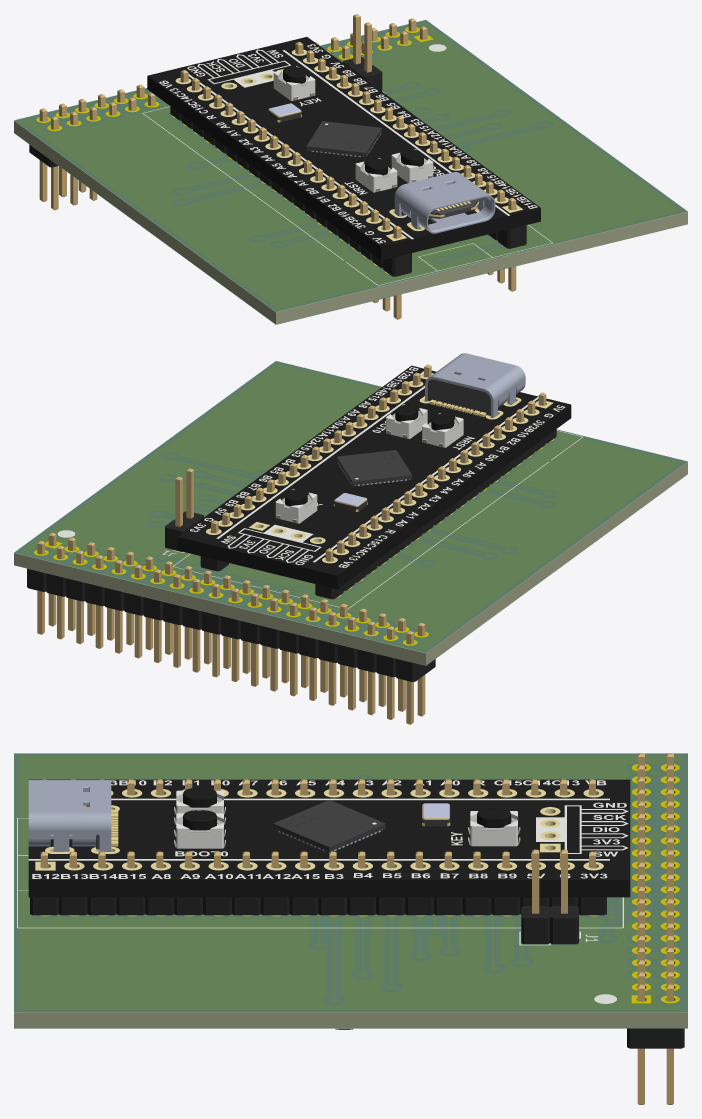
The model's file is BlackDev_G0Basic.glb.
The picture shows the model from 3 angles, top to bottom: view 1: azimuth 30°, elevation 25°; view 2: azimuth 150°, elevation 25°; view 3: azimuth 270°, elevation 25°; orthographic projection. The views are drawn at different scales.
Visible parts, largest first — view 1: =>[0:1:1:21], =>[0:1:1:18], =>0:1:1:11, =>[0:1:1:23], =>[0:1:1:13] (×2), USB Type C Port (SMD Type) v1:1, =>[0:1:1:17], STM32F411CEU6 v2:1, =>[0:1:1:3], PTS810 SJK 250 SMTR LFS--3DModel-STEP-1 v2:1, PTS810 SJK 250 SMTR LFS--3DModel-STEP-1 v2(Mirror):1, PTS810 SJK 250 SMTR LFS--3DModel-STEP-1 v2:2 (+3 smaller); view 2: =>[0:1:1:21], =>[0:1:1:18], =>0:1:1:11, =>[0:1:1:17], =>[0:1:1:23], =>[0:1:1:13] (×2), USB Type C Port (SMD Type) v1:1, STM32F411CEU6 v2:1, =>[0:1:1:3], PTS810 SJK 250 SMTR LFS--3DModel-STEP-1 v2:1, PTS810 SJK 250 SMTR LFS--3DModel-STEP-1 v2(Mirror):1, PTS810 SJK 250 SMTR LFS--3DModel-STEP-1 v2:2 (+2 smaller); view 3: =>[0:1:1:21], =>[0:1:1:18], =>0:1:1:11, =>[0:1:1:23], =>[0:1:1:13] (×2), =>[0:1:1:17], USB Type C Port (SMD Type) v1:1, STM32F411CEU6 v2:1, =>[0:1:1:3], PTS810 SJK 250 SMTR LFS--3DModel-STEP-1 v2:1, PTS810 SJK 250 SMTR LFS--3DModel-STEP-1 v2:2, =>[0:1:1:19] (+3 smaller).
Boxes of the visible parts, left/top/right/bottom form: =>[0:1:1:21]: left=14, top=20, right=687, bottom=311; =>[0:1:1:18]: left=21, top=23, right=680, bottom=308; =>0:1:1:11: left=147, top=37, right=540, bottom=260; =>[0:1:1:23]: left=14, top=21, right=687, bottom=324; =>[0:1:1:13] (×2): left=170, top=42, right=526, bottom=319; USB Type C Port (SMD Type) v1:1: left=394, top=172, right=495, bottom=233; =>[0:1:1:17]: left=29, top=18, right=427, bottom=210; STM32F411CEU6 v2:1: left=306, top=121, right=381, bottom=157; =>[0:1:1:3]: left=342, top=14, right=382, bottom=91; PTS810 SJK 250 SMTR LFS--3DModel-STEP-1 v2:1: left=273, top=66, right=315, bottom=100; PTS810 SJK 250 SMTR LFS--3DModel-STEP-1 v2(Mirror):1: left=355, top=158, right=397, bottom=192; PTS810 SJK 250 SMTR LFS--3DModel-STEP-1 v2:2: left=391, top=149, right=433, bottom=182; =>[0:1:1:21]: left=14, top=361, right=687, bottom=652; =>[0:1:1:18]: left=21, top=364, right=680, bottom=649; =>0:1:1:11: left=177, top=365, right=571, bottom=589; =>[0:1:1:17]: left=27, top=532, right=435, bottom=724; =>[0:1:1:23]: left=14, top=362, right=687, bottom=665; =>[0:1:1:13] (×2): left=200, top=364, right=556, bottom=599; USB Type C Port (SMD Type) v1:1: left=425, top=353, right=525, bottom=417; STM32F411CEU6 v2:1: left=336, top=450, right=412, bottom=486; =>[0:1:1:3]: left=165, top=468, right=204, bottom=551; PTS810 SJK 250 SMTR LFS--3DModel-STEP-1 v2:1: left=275, top=489, right=317, bottom=523; PTS810 SJK 250 SMTR LFS--3DModel-STEP-1 v2(Mirror):1: left=422, top=413, right=463, bottom=447; PTS810 SJK 250 SMTR LFS--3DModel-STEP-1 v2:2: left=386, top=404, right=427, bottom=438; =>[0:1:1:21]: left=14, top=753, right=687, bottom=1012; =>[0:1:1:18]: left=20, top=756, right=681, bottom=1009; =>0:1:1:11: left=28, top=779, right=630, bottom=897; =>[0:1:1:23]: left=14, top=754, right=687, bottom=1028; =>[0:1:1:13] (×2): left=30, top=779, right=606, bottom=915; =>[0:1:1:17]: left=627, top=753, right=684, bottom=1104; USB Type C Port (SMD Type) v1:1: left=28, top=780, right=118, bottom=851; STM32F411CEU6 v2:1: left=273, top=800, right=385, bottom=852; =>[0:1:1:3]: left=521, top=849, right=578, bottom=944; PTS810 SJK 250 SMTR LFS--3DModel-STEP-1 v2:1: left=468, top=808, right=520, bottom=846; PTS810 SJK 250 SMTR LFS--3DModel-STEP-1 v2:2: left=174, top=810, right=225, bottom=848; =>[0:1:1:19]: left=17, top=818, right=623, bottom=1003.
Size of the model in its own units: 0.0539 by 0.0188 by 0.0593.
